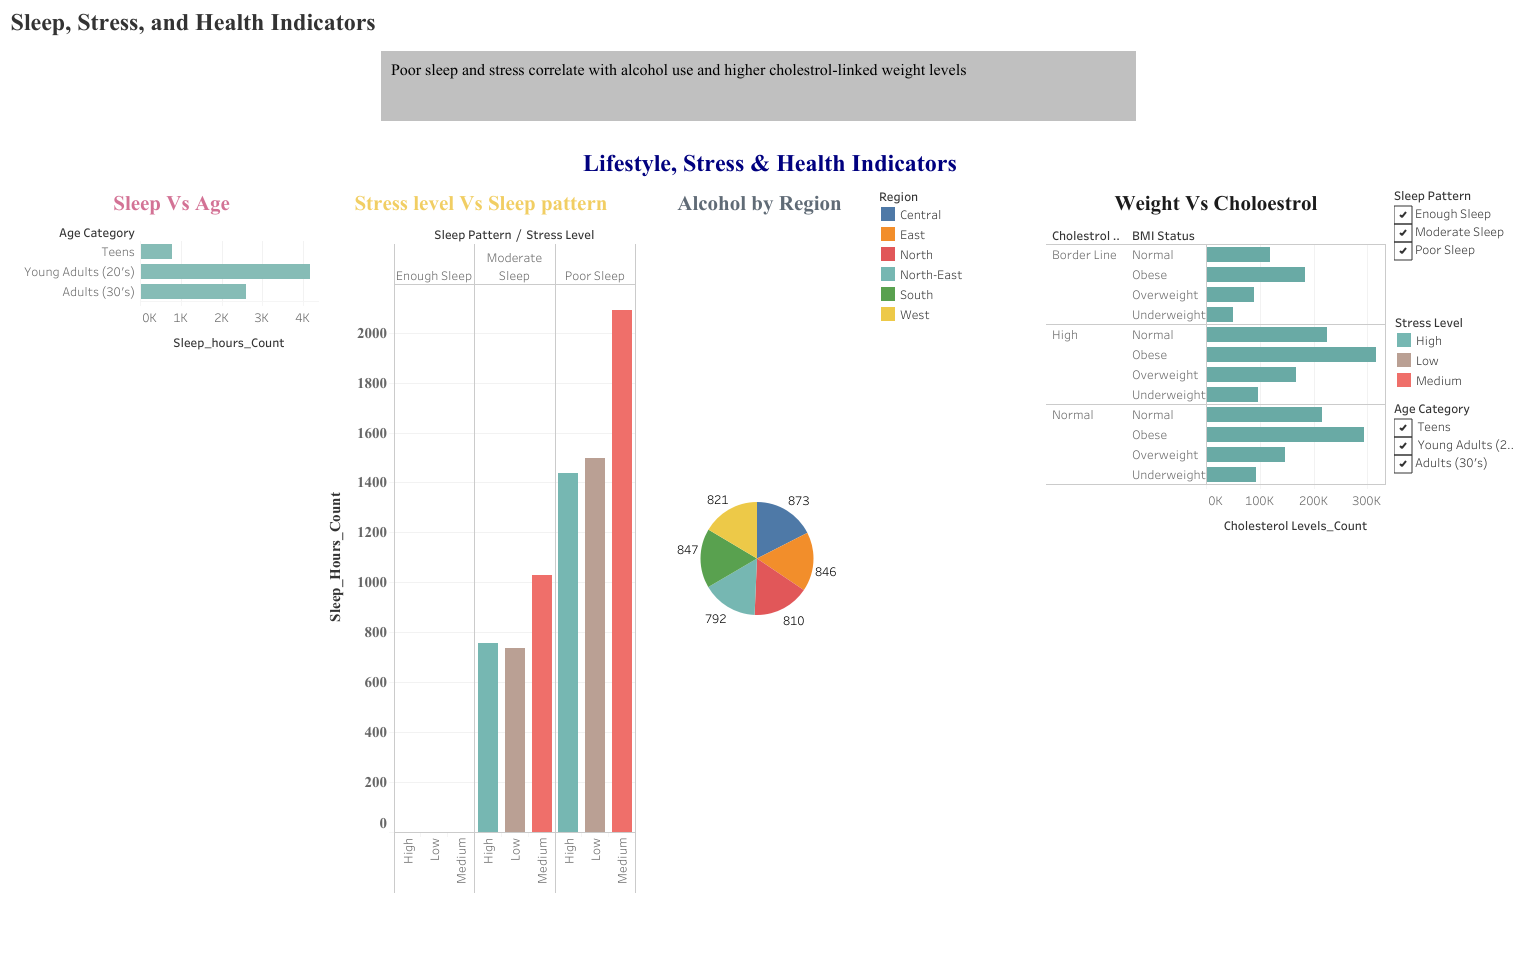

What the dashboard file says about the page in this screenshot:
{"tool":"tableau","page":{"name":"Dashboard 3","canvas":[1524,768],"ordinal":2},"visuals":[{"type":"title","box":[8,8,1508,35]},{"type":"worksheet","title":"Sheet 7","mark":"Automatic","rows":["Age_Category"],"cols":["Sleep_Score"],"box":[8,43,423,717]},{"type":"worksheet","title":"Sheet 8","mark":"Automatic","rows":["Sleep_Score"],"cols":["Sleep_Pattern","Stress Level"],"box":[431,43,318,717]},{"type":"worksheet","title":"Sheet 6","mark":"Pie","box":[749,43,168,717]},{"type":"worksheet","title":"Sheet 9","mark":"Automatic","rows":["Cholestrol_Check","BMI_Status"],"cols":["Cholesterol Levels (mg/dL)"],"box":[917,43,465,717]},{"type":"filter","title":"Sheet 7","param":"[federated.0xmsiim08rcw0m1774rh319un32k].[none:Sleep_Pattern:nk]","box":[1382,43,134,126]},{"type":"legend","title":"Sheet 8","param":"[federated.0xmsiim08rcw0m1774rh319un32k].[none:Stress Level:nk]","box":[1382,169,134,86]},{"type":"filter","title":"Sheet 6","param":"[federated.0xmsiim08rcw0m1774rh319un32k].[none:Age_Category:nk]","box":[1382,255,134,108]},{"type":"legend","title":"Sheet 6","param":"[federated.0xmsiim08rcw0m1774rh319un32k].[none:Region:nk]","box":[1382,363,134,146]},{"type":"legend","title":"Sheet 6","param":"[federated.0xmsiim08rcw0m1774rh319un32k].[sum:Alcohol_Score:qk]","box":[1382,509,134,46]}]}

Visuals, with their boxes on the page's 1524x768 design canvas (x1, y1, x2, y2). These are canvas units, not pixel positions in the 1515x963 screenshot, which may show the page scaled, cropped or inside an application window:
title: {"left": 8, "top": 8, "right": 1516, "bottom": 43}
"Sheet 7" worksheet: {"left": 8, "top": 43, "right": 431, "bottom": 760}
"Sheet 8" worksheet: {"left": 431, "top": 43, "right": 749, "bottom": 760}
"Sheet 6" worksheet (Pie marks): {"left": 749, "top": 43, "right": 917, "bottom": 760}
"Sheet 9" worksheet: {"left": 917, "top": 43, "right": 1382, "bottom": 760}
"Sheet 7" filter: {"left": 1382, "top": 43, "right": 1516, "bottom": 169}
"Sheet 8" legend: {"left": 1382, "top": 169, "right": 1516, "bottom": 255}
"Sheet 6" filter: {"left": 1382, "top": 255, "right": 1516, "bottom": 363}
"Sheet 6" legend: {"left": 1382, "top": 363, "right": 1516, "bottom": 509}
"Sheet 6" legend: {"left": 1382, "top": 509, "right": 1516, "bottom": 555}
